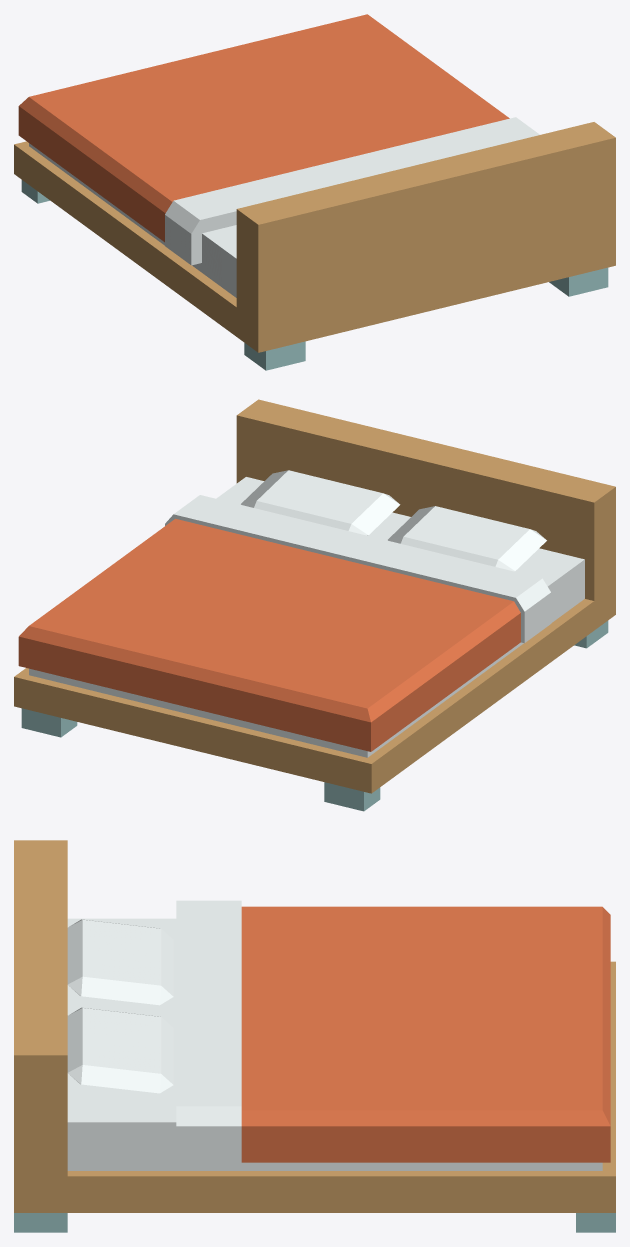
File: bedDouble.glb
The picture shows the model from 3 angles, top to bottom: view 1: azimuth 30°, elevation 25°; view 2: azimuth 150°, elevation 25°; view 3: azimuth 270°, elevation 25°; orthographic projection. The views are drawn at different scales.
Bounding box in the file's own units: 9.56 × 3.75 × 11.25.
